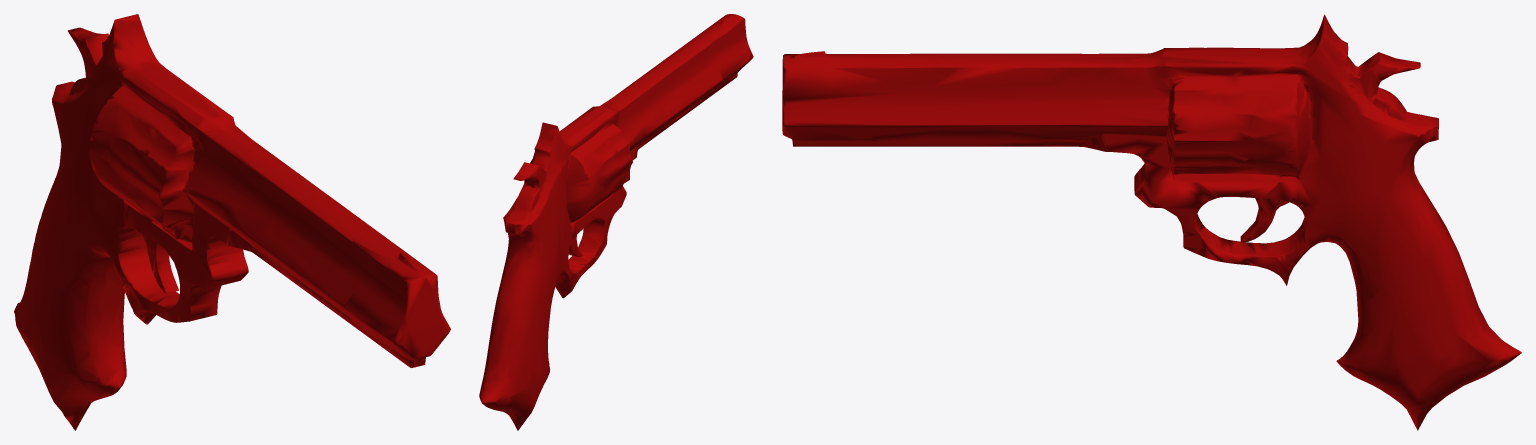
File: SM_Gun.fbx
The picture shows the model from 3 angles, left to right: view 1: azimuth 30°, elevation 25°; view 2: azimuth 150°, elevation 25°; view 3: azimuth 270°, elevation 25°; orthographic projection. The views are drawn at different scales.
Visible parts, largest first — view 1: model; view 2: model; view 3: model.
Part boxes in pixels (box(x1,y1,x2,y2)): model: box(14, 14, 450, 430); model: box(479, 14, 753, 430); model: box(782, 14, 1521, 430).
Bounding box in the file's own units: 5.04 × 21 × 34.17.
